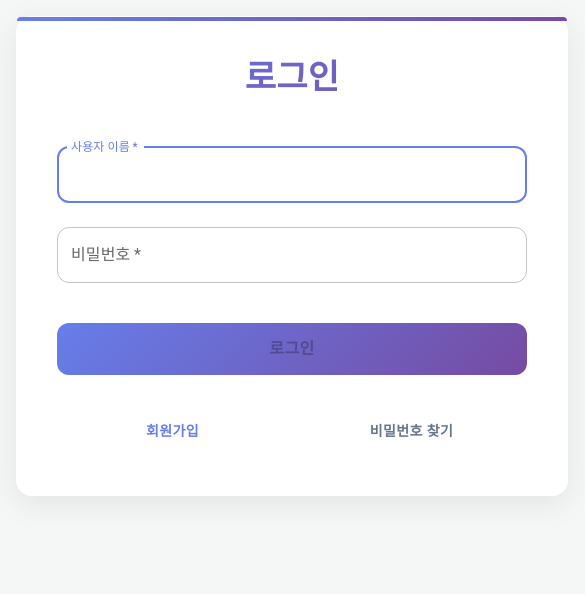
LoginPage › should display error message on login failure
In the field labelled "사용자 이름 *": (292, 175) x1=57 y1=147 x2=527 y2=203, type "wronguser"
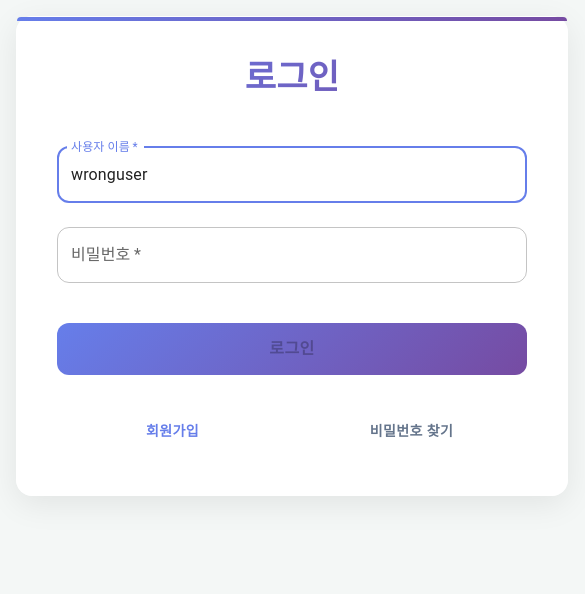
In the password field labelled "비밀번호 *": (292, 255) x1=57 y1=227 x2=527 y2=283, type "wrongpassword"
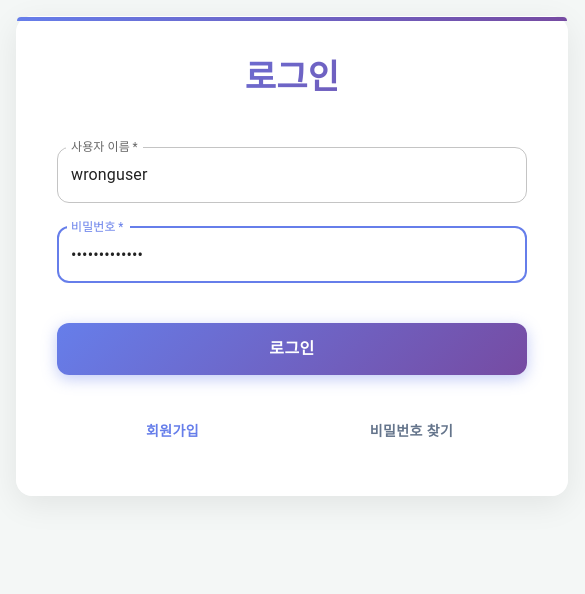
Click the button "로그인": (292, 349) x1=57 y1=323 x2=527 y2=375
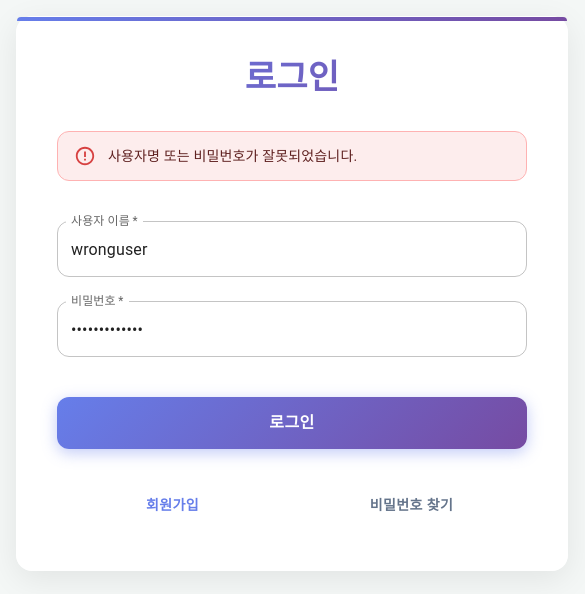
Check: the text "사용자명 또는 비밀번호가 잘못되었습니다." is shown, box x1=108 y1=148 x2=357 y2=164
